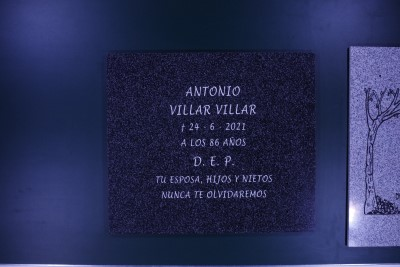lapidas: (105, 52, 315, 233)
